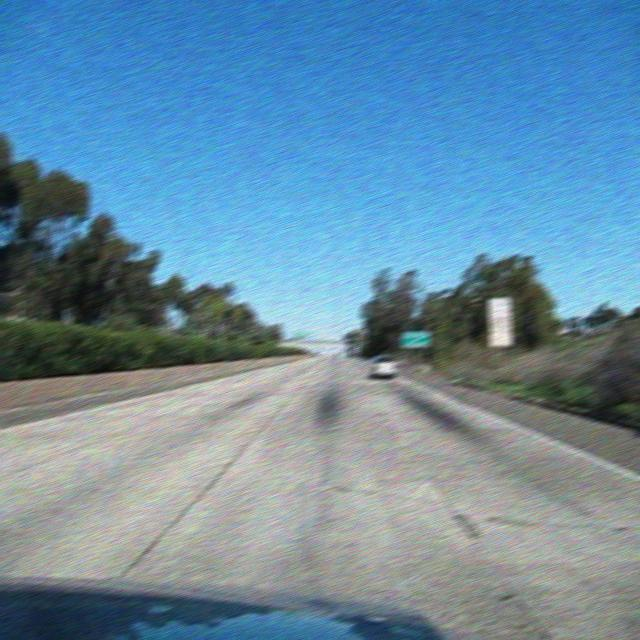speedLimit65: (487, 296, 512, 332)
